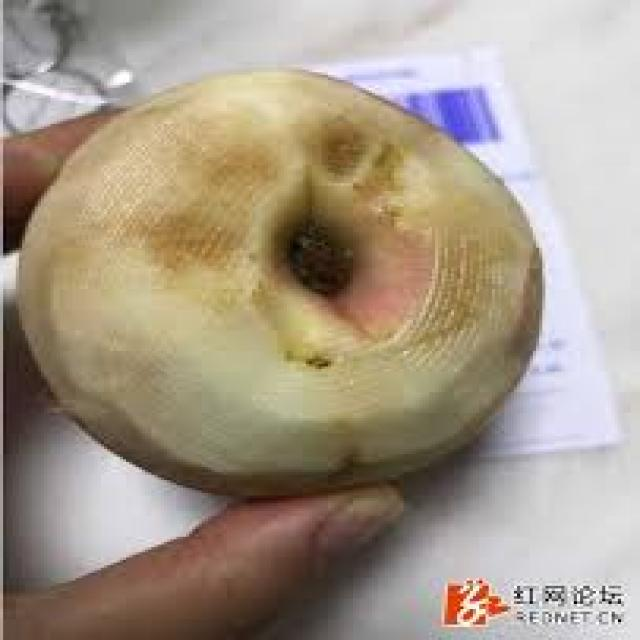organic waste: (13, 65, 539, 482)
